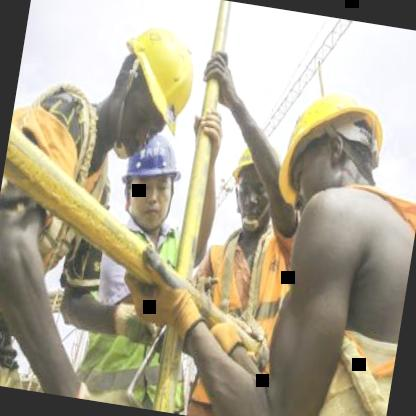helmet: (268, 69, 404, 221), (99, 7, 211, 165), (108, 118, 190, 235), (224, 139, 286, 234)
